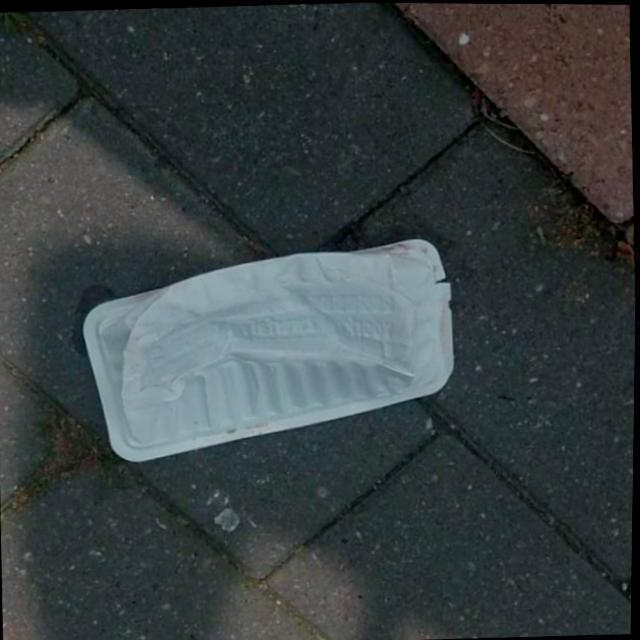Plastic: (77, 233, 459, 470)
